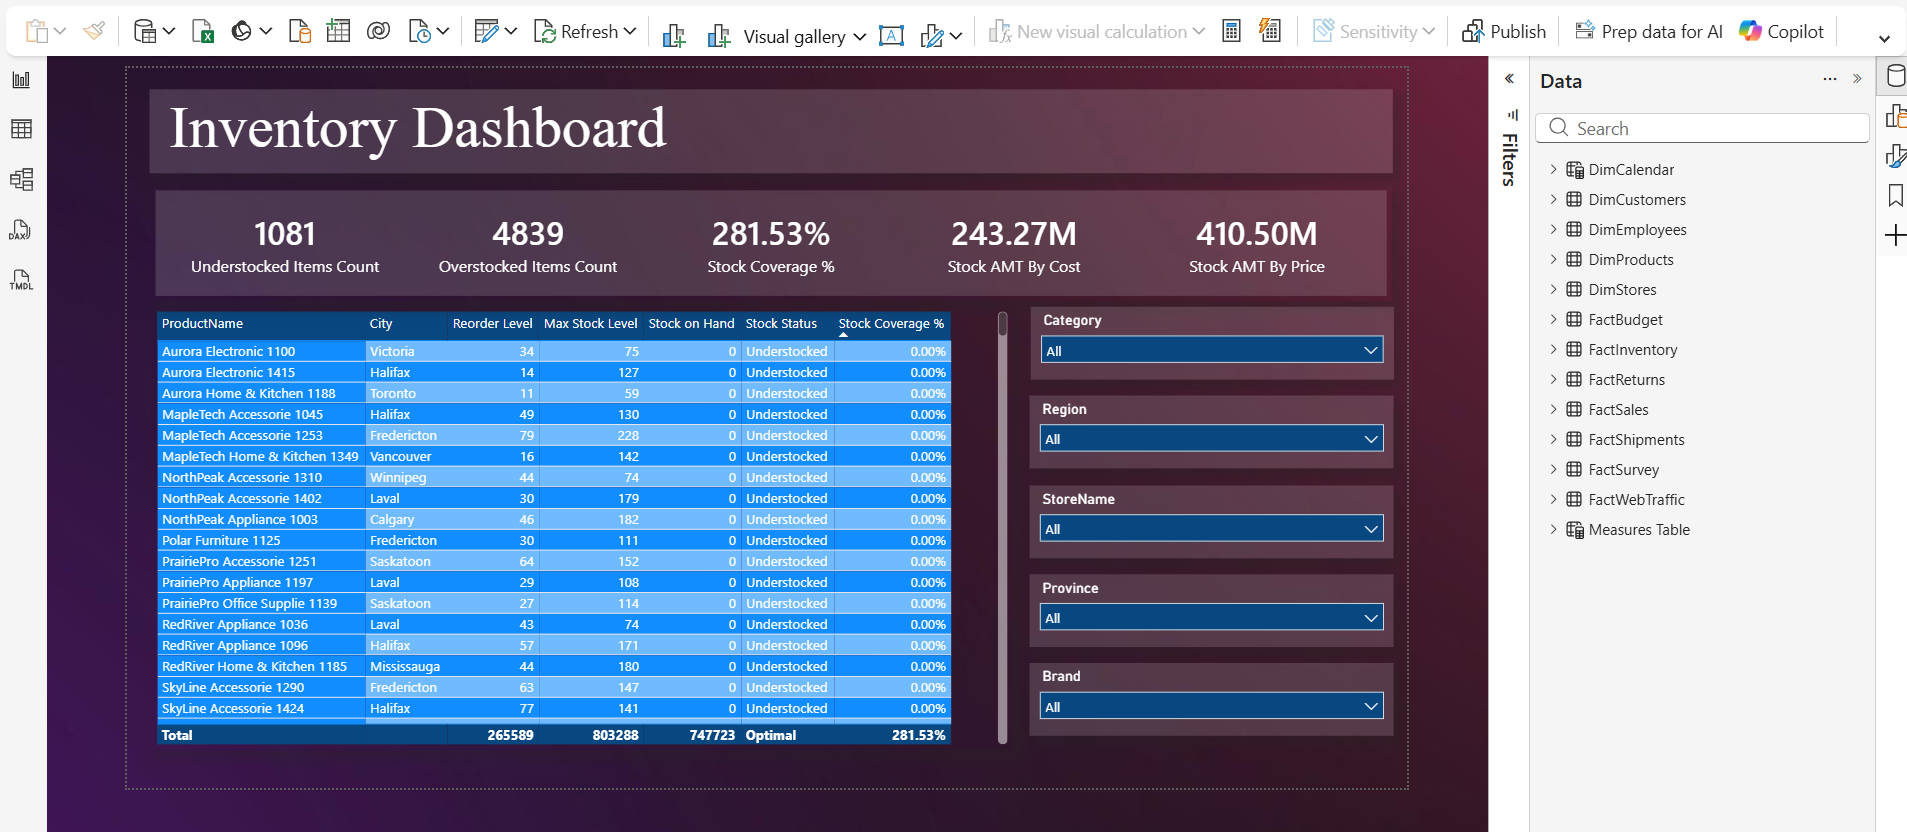

What the dashboard file says about the page in this screenshot:
{"tool":"powerbi","page":{"name":"Inventory Dashboard","canvas":[1280,720],"ordinal":4},"visuals":[{"type":"tableEx","fields":{"Values":["DimProducts.ProductName","DimStores.City","Measures Table.Reorder Level","Measures Table.Max Stock Level","Measures Table.Stock on Hand","Measures Table.Stock Status","Measures Table.Stock Coverage %"]},"box":[24.3,239,861.4,442.9],"z":0},{"type":"cardVisual","fields":{"Data":["Measures Table.Understocked Items Count","Measures Table.Overstocked Items Count","Measures Table.Stock Coverage %","Measures Table.Stock AMT By Cost","Measures Table.Stock AMT By Price"]},"box":[24.3,117.6,1241.4,115.7],"z":1000},{"type":"slicer","fields":{"Values":["DimProducts.Category"]},"box":[903.4,239,362.9,72.9],"z":2000},{"type":"slicer","fields":{"Values":["DimStores.Province"]},"box":[902.7,505.8,364.3,72.9],"z":3000},{"type":"slicer","fields":{"Values":["DimStores.Region"]},"box":[902.7,328,364.3,72.9],"z":4000},{"type":"slicer","fields":{"Values":["DimStores.StoreName"]},"box":[902.7,416.9,364.3,72.9],"z":5000},{"type":"slicer","fields":{"Values":["DimProducts.Brand"]},"box":[902.7,594.8,364.3,72.9],"z":6000},{"type":"textbox","box":[22.9,21.4,1242.9,84.3],"z":7000}]}

Visuals, with their boxes on the page's 1280x720 design canvas (x1, y1, x2, y2). These are canvas units, not pixel positions in the 1907x832 screenshot, which may show the page scaled, cropped or inside an application window:
tableEx - DimProducts.ProductName x DimStores.City: bbox=[24, 239, 886, 682]
cardVisual - Measures Table.Understocked Items Count x Measures Table.Overstocked Items Count: bbox=[24, 118, 1266, 233]
slicer - DimProducts.Category: bbox=[903, 239, 1266, 312]
slicer - DimStores.Province: bbox=[903, 506, 1267, 579]
slicer - DimStores.Region: bbox=[903, 328, 1267, 401]
slicer - DimStores.StoreName: bbox=[903, 417, 1267, 490]
slicer - DimProducts.Brand: bbox=[903, 595, 1267, 668]
textbox: bbox=[23, 21, 1266, 106]
